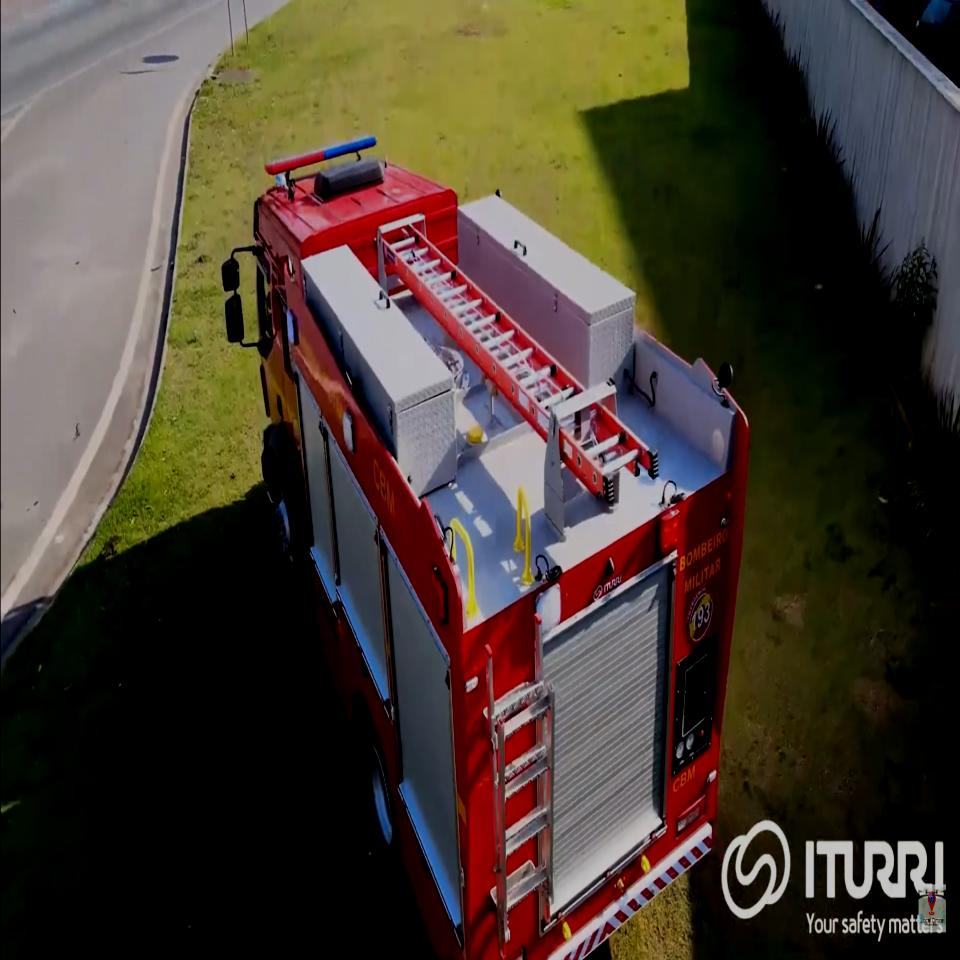bombeiro: (221, 133, 751, 960)
